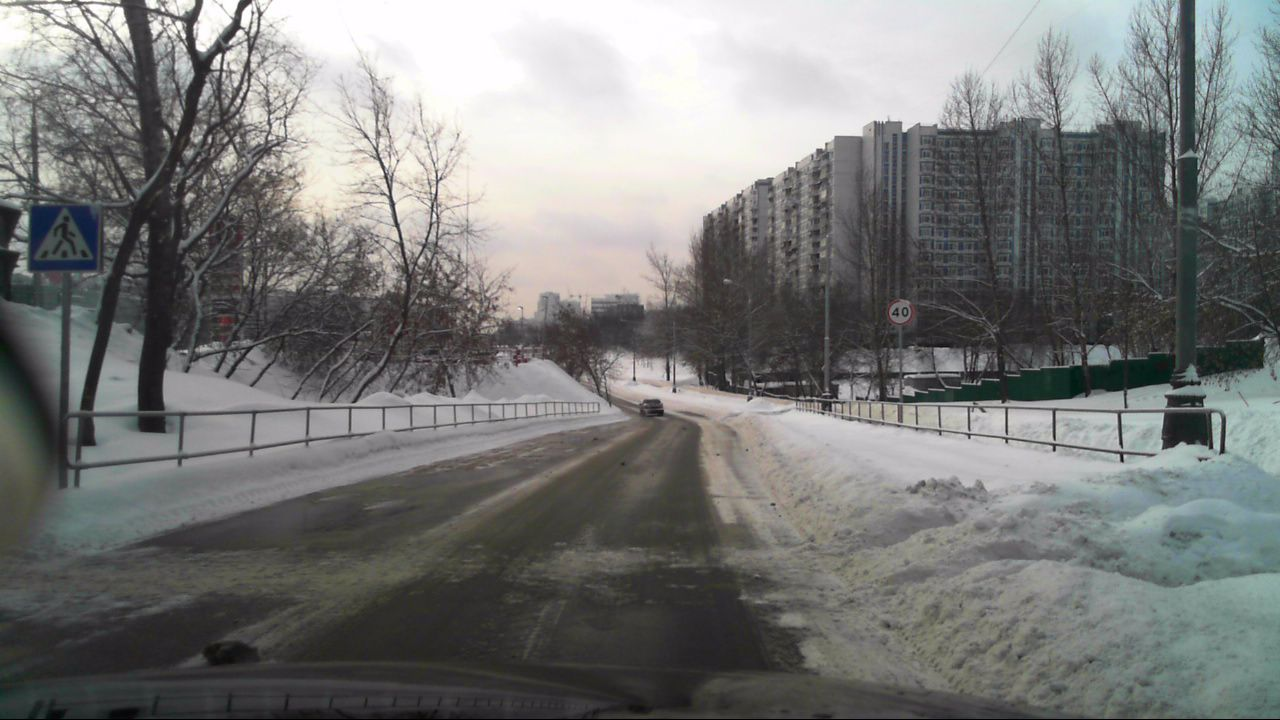speed_warning_40: (886, 298, 914, 326)
